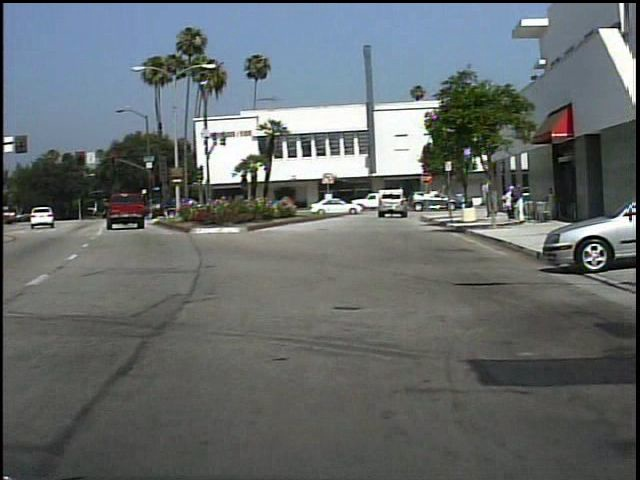person: (510, 182, 527, 224), (370, 190, 391, 219), (542, 184, 555, 222), (501, 184, 512, 220)
